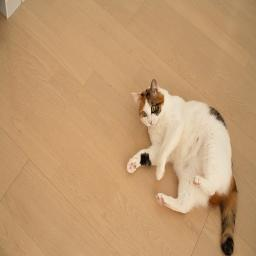catnose: (148, 120, 153, 126)
